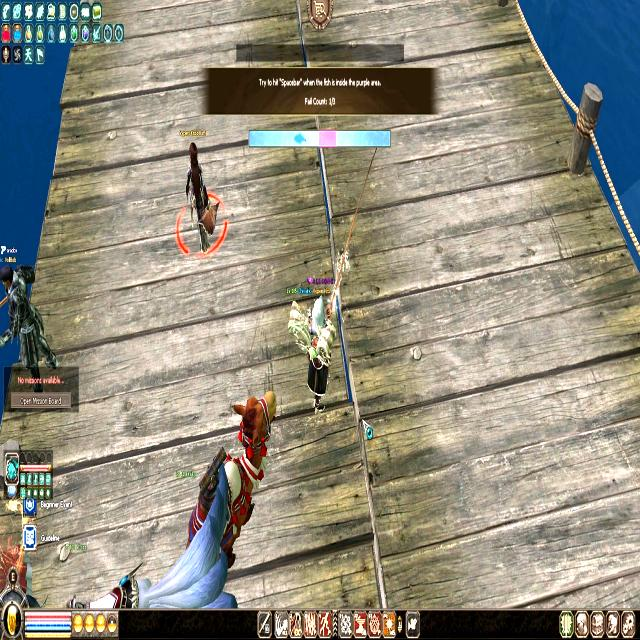fishes: (294, 132, 305, 144)
